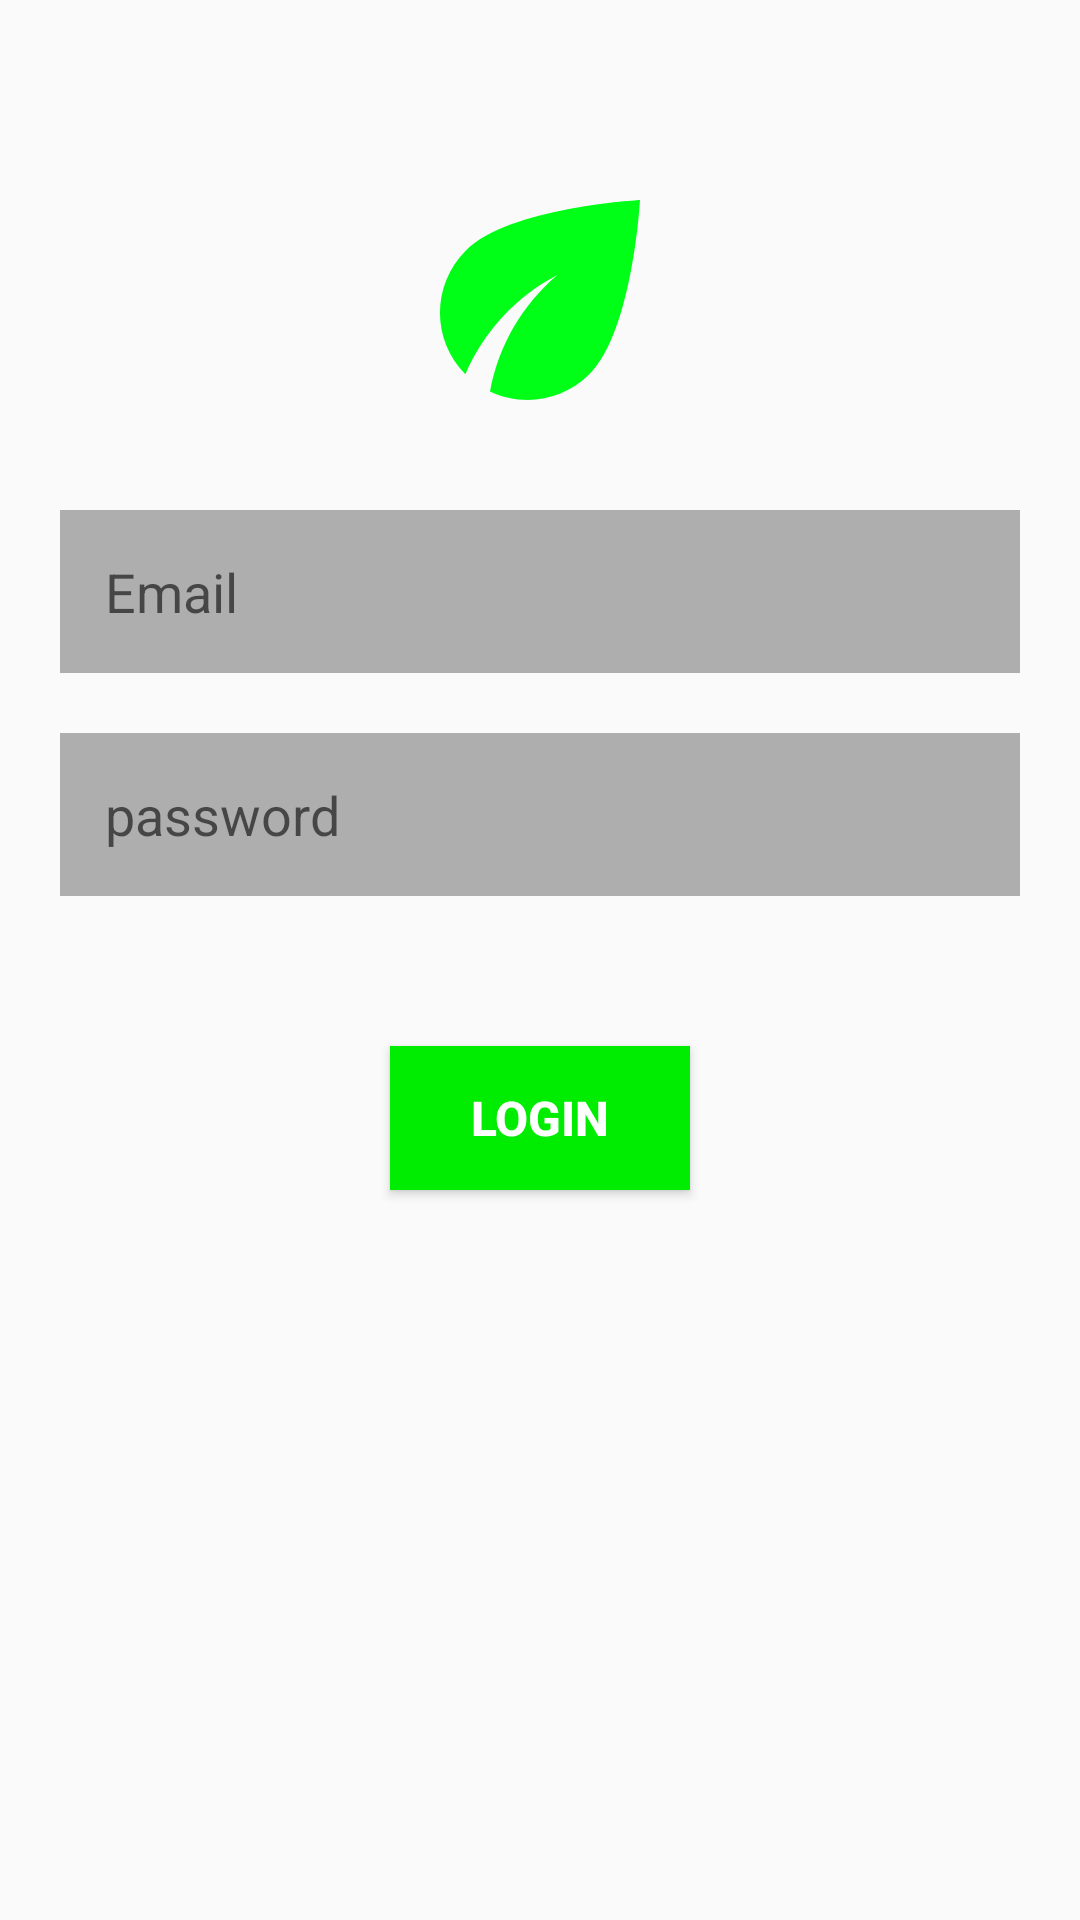

Icons on this 1080w x 1920h Android screen, each with the point to tap as (x,y):
eco: (540,300)
